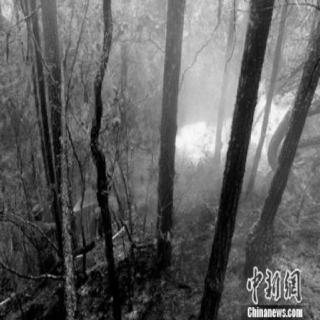Fire: (251, 79, 298, 165), (175, 118, 232, 165), (310, 79, 318, 101)
other: (239, 251, 305, 313), (27, 195, 65, 277), (0, 0, 13, 16)
